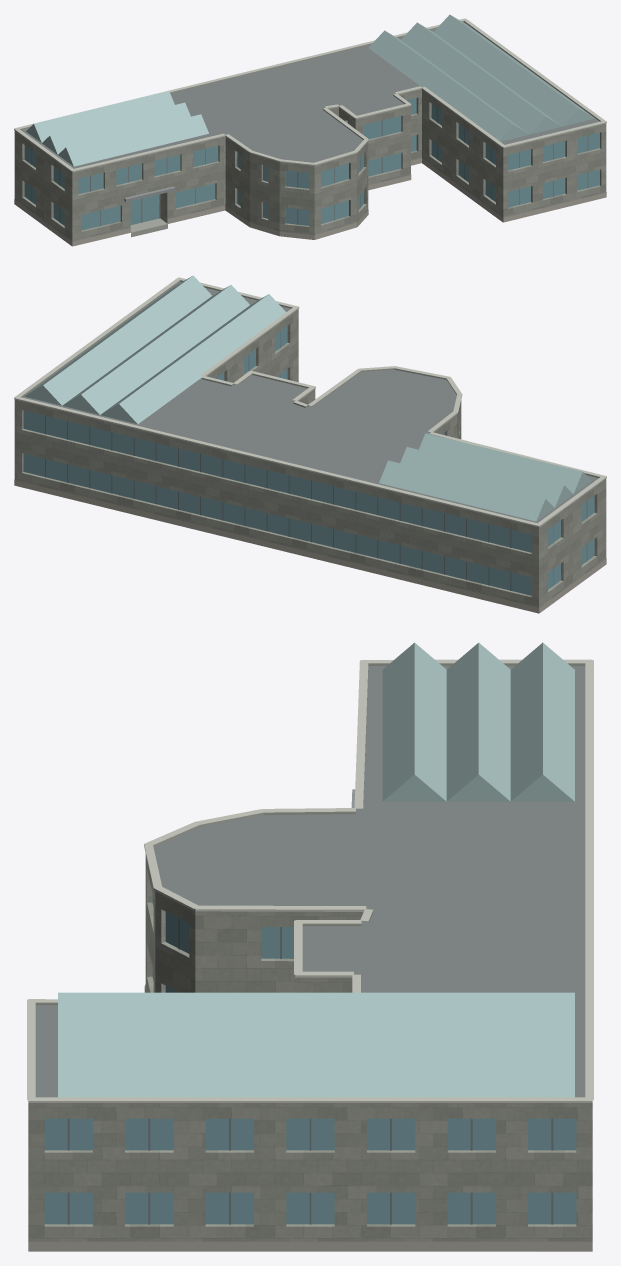
3 renders of one model, top to bottom at view 1: azimuth 30°, elevation 25°; view 2: azimuth 150°, elevation 25°; view 3: azimuth 270°, elevation 25°, orthographic. The views are drawn at different scales.
Parts seen in each view (by area): view 1: greenhouse__wall, greenhouse__roofGlass, greenhouse__roof, greenhouse__glass, greenhouse__trim, greenhouse__base, greenhouse__parapet, greenhouse__frame, greenhouse__entranceThreshold_0; view 2: greenhouse__wall, greenhouse__roofGlass, greenhouse__roof, greenhouse__glass, greenhouse__trim, greenhouse__base, greenhouse__frame, greenhouse__parapet; view 3: greenhouse__roofGlass, greenhouse__wall, greenhouse__roof, greenhouse__glass, greenhouse__trim, greenhouse__base, greenhouse__frame, greenhouse__parapet.
Part boxes in pixels (x1,y1,x2,y2): greenhouse__wall: (14, 89, 606, 245); greenhouse__roofGlass: (26, 14, 594, 166); greenhouse__roof: (21, 22, 599, 246); greenhouse__glass: (24, 98, 599, 230); greenhouse__trim: (14, 18, 606, 171); greenhouse__base: (14, 158, 606, 246); greenhouse__parapet: (20, 21, 600, 171); greenhouse__frame: (31, 100, 588, 226); greenhouse__entranceThreshold_0: (130, 218, 167, 237); greenhouse__wall: (14, 309, 606, 612); greenhouse__roofGlass: (24, 275, 591, 521); greenhouse__roof: (22, 281, 598, 613); greenhouse__glass: (23, 326, 594, 595); greenhouse__trim: (14, 277, 606, 527); greenhouse__base: (14, 479, 606, 613); greenhouse__frame: (45, 331, 587, 590); greenhouse__parapet: (21, 280, 599, 526); greenhouse__roofGlass: (58, 642, 574, 1097); greenhouse__wall: (28, 854, 592, 1241); greenhouse__roof: (28, 666, 585, 1251); greenhouse__glass: (44, 895, 576, 1224); greenhouse__trim: (27, 659, 593, 1102); greenhouse__base: (28, 984, 592, 1251); greenhouse__frame: (67, 918, 553, 1224); greenhouse__parapet: (35, 663, 585, 1005).
Bounding box in the file's own units: 43.43 × 8.45 × 23.59.
11 materials, 1 textured.
